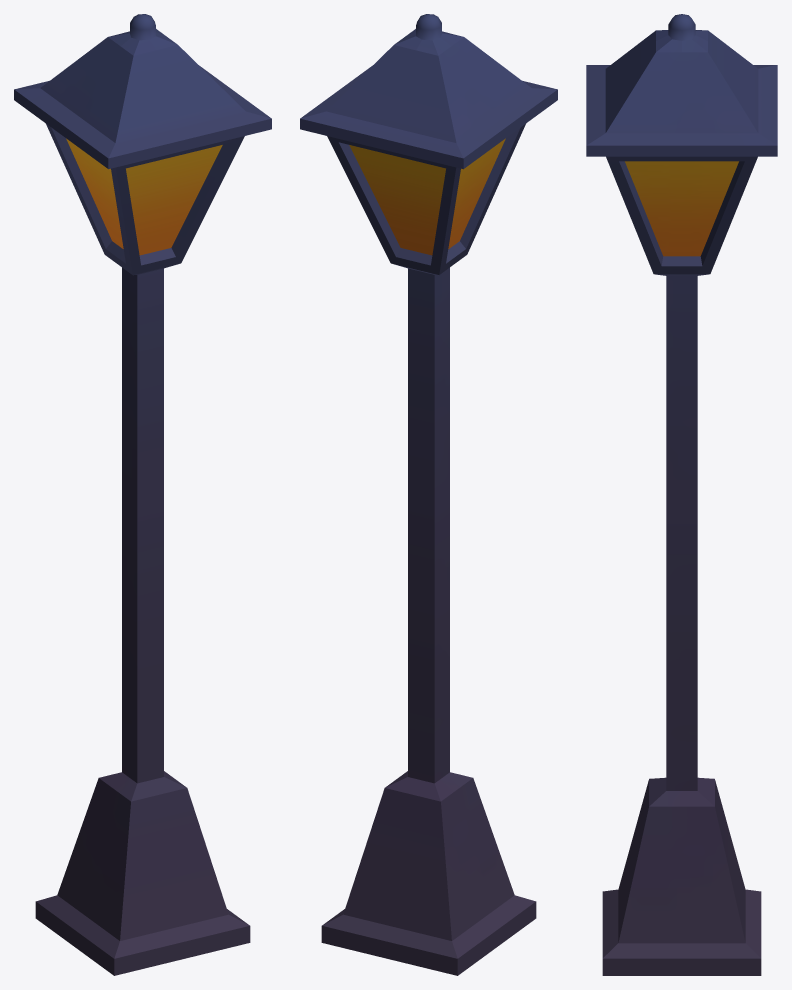
File: Streetlight.obj
The picture shows the model from 3 angles, left to right: view 1: azimuth 30°, elevation 25°; view 2: azimuth 150°, elevation 25°; view 3: azimuth 270°, elevation 25°; orthographic projection.
Parts seen in each view (by area): view 1: {mesh}Streetlight_Cube.028; view 2: {mesh}Streetlight_Cube.028; view 3: {mesh}Streetlight_Cube.028.
Boxes of the visible parts, x1,y1,x2,y2 form: {mesh}Streetlight_Cube.028: (14, 14, 271, 975); {mesh}Streetlight_Cube.028: (300, 14, 557, 975); {mesh}Streetlight_Cube.028: (586, 14, 777, 975).
Bounding box in the file's own units: 36.08 × 193 × 36.08.
1 material, 1 textured.
